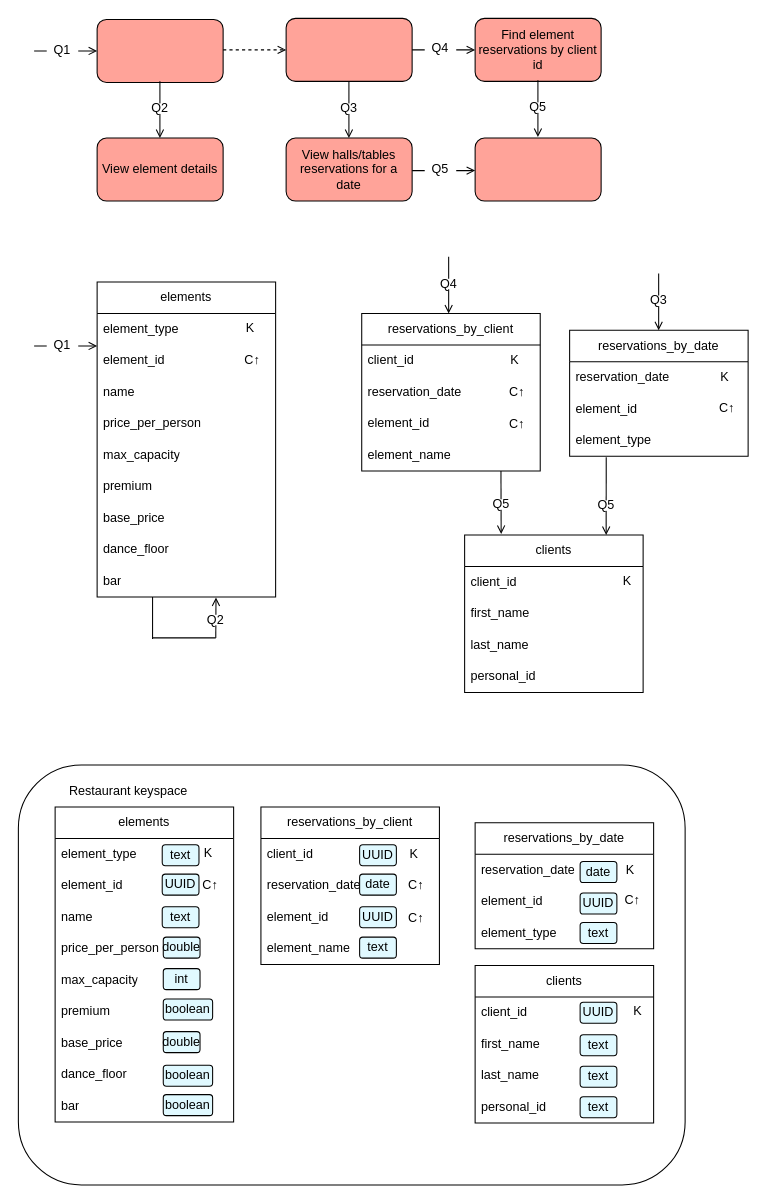
This 777x1203 diagram has some shape labels left out. Each missing label, with the box of its shape:
Reserve an element: (285, 17, 412, 81)
View all elements of specific type (hall or table): (96, 18, 223, 82)
View client details: (474, 137, 601, 201)
